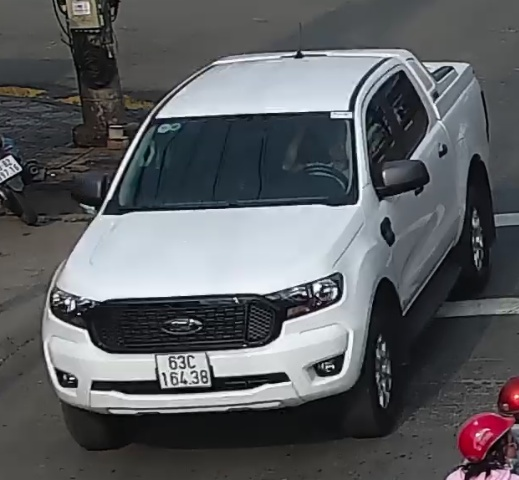vehicle plate: (155, 346, 212, 392)
